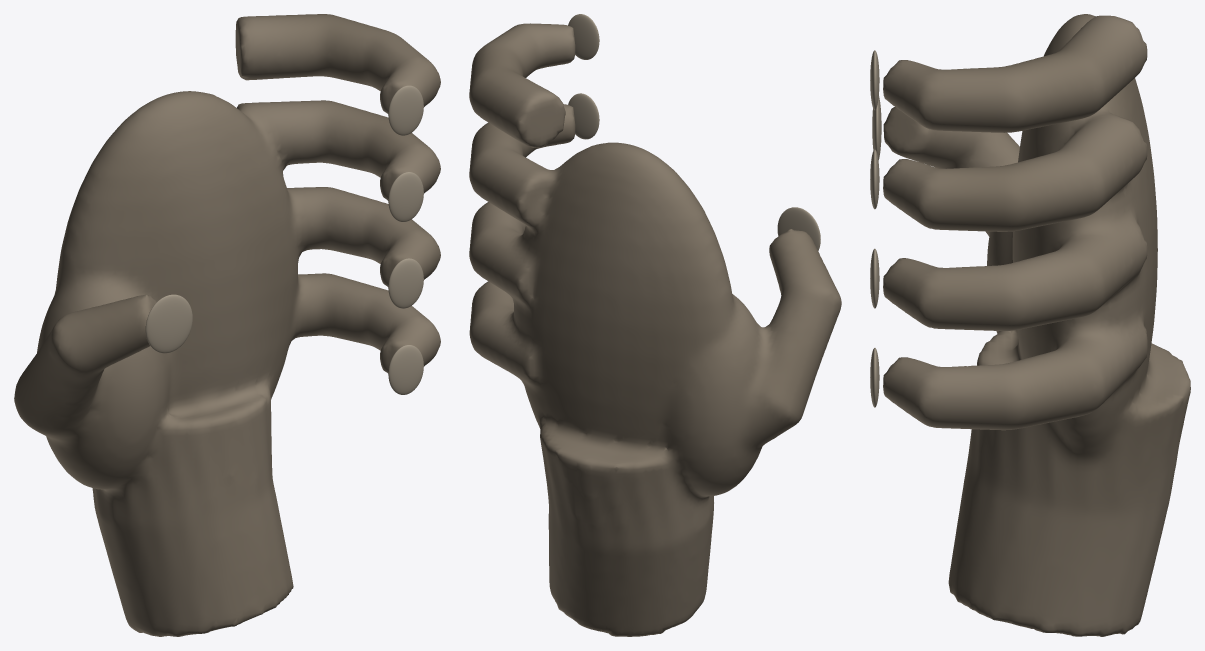
Rendered from phone-grip.glb.
3 renders of one model, left to right at view 1: azimuth 30°, elevation 25°; view 2: azimuth 150°, elevation 25°; view 3: azimuth 270°, elevation 25°, orthographic. The views are drawn at different scales.
Parts seen in each view (by area): view 1: Hand, Thumb nail, Inset fingernail, Inset fingernail.002, Inset fingernail.003, Inset fingernail.001; view 2: Hand, Inset fingernail.001, Inset fingernail, Thumb nail; view 3: Hand, Inset fingernail, Inset fingernail.001, Inset fingernail.002, Inset fingernail.003, Thumb nail.
Part boxes in pixels (x1,y1,x2,y2): Hand: (14, 14, 440, 636); Thumb nail: (145, 294, 192, 353); Inset fingernail: (388, 85, 423, 135); Inset fingernail.002: (388, 258, 423, 308); Inset fingernail.003: (388, 345, 423, 394); Inset fingernail.001: (388, 172, 423, 221); Hand: (469, 23, 841, 636); Inset fingernail.001: (568, 93, 599, 139); Inset fingernail: (568, 14, 599, 59); Thumb nail: (777, 207, 820, 250); Hand: (883, 14, 1190, 636); Inset fingernail: (870, 50, 879, 110); Inset fingernail.001: (870, 149, 879, 209); Inset fingernail.002: (870, 248, 879, 308); Inset fingernail.003: (870, 348, 879, 407); Thumb nail: (872, 96, 881, 160).
Size of the model in its own units: 0.0949 by 0.1371 by 0.0616.
